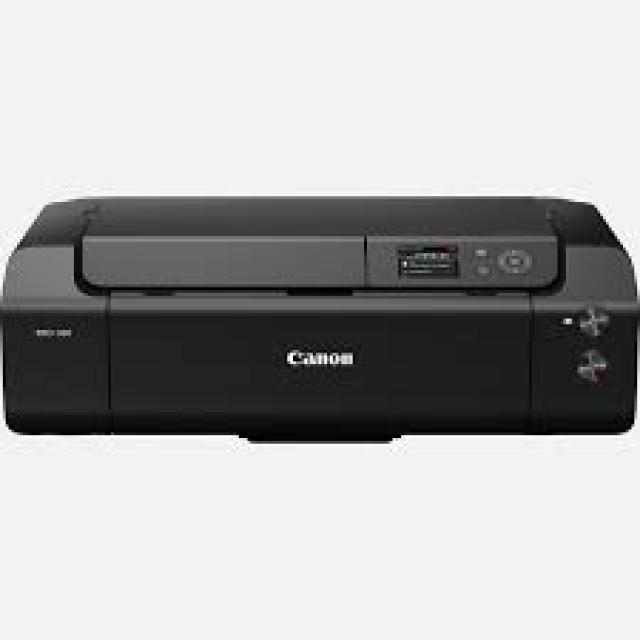printer: (0, 164, 640, 470)
